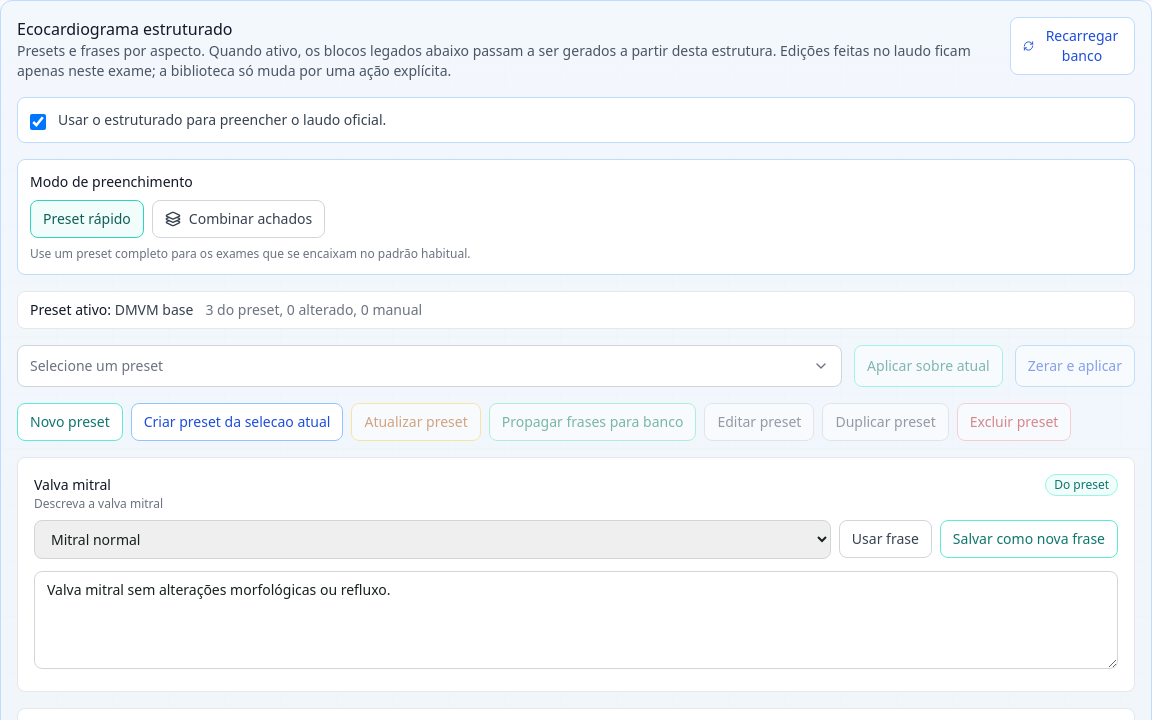
Test: EcocardiogramaEstruturadoEditor - composicao de achados › omite presets exclusivamente felinos no seletor clínico de Dog
Click the button "Selecione um preset": (97, 366) [17,345,842,387]
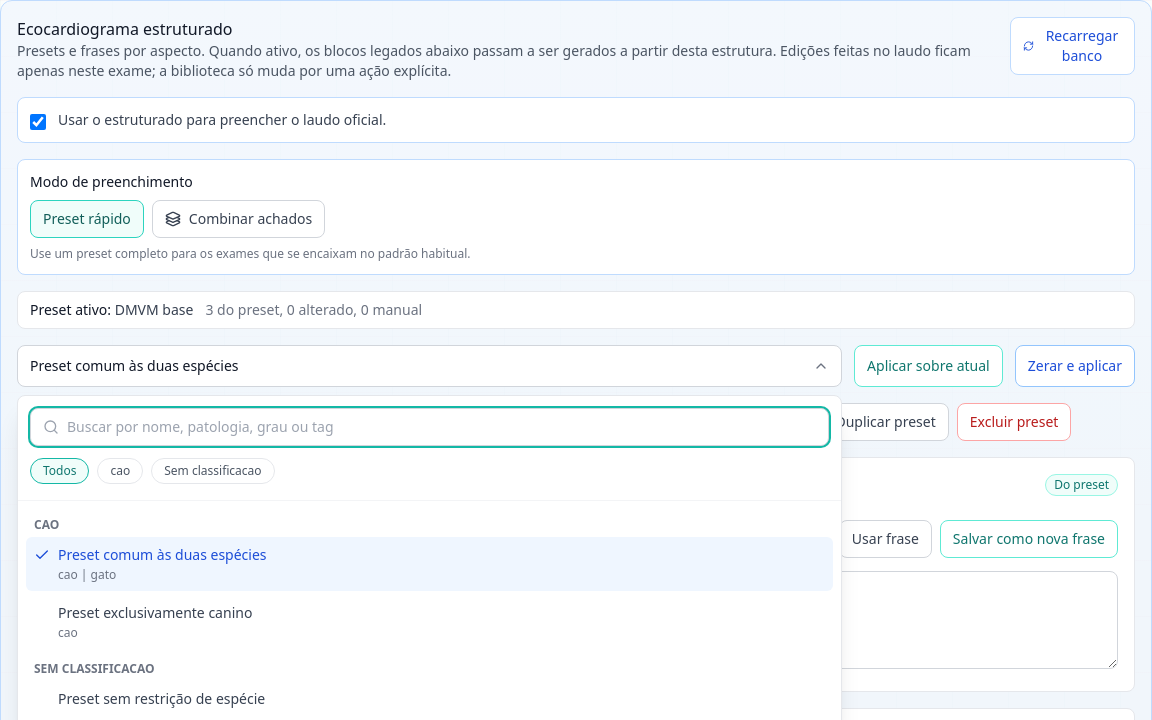
Now the button "Preset exclusivamente canino cao" is shown, box [26,595,833,649]
Now the button "Preset comum às duas espécies cao | gato" is shown, box [26,537,833,591]
Now the button "Preset sem restrição de espécie" is shown, box [26,681,833,717]
